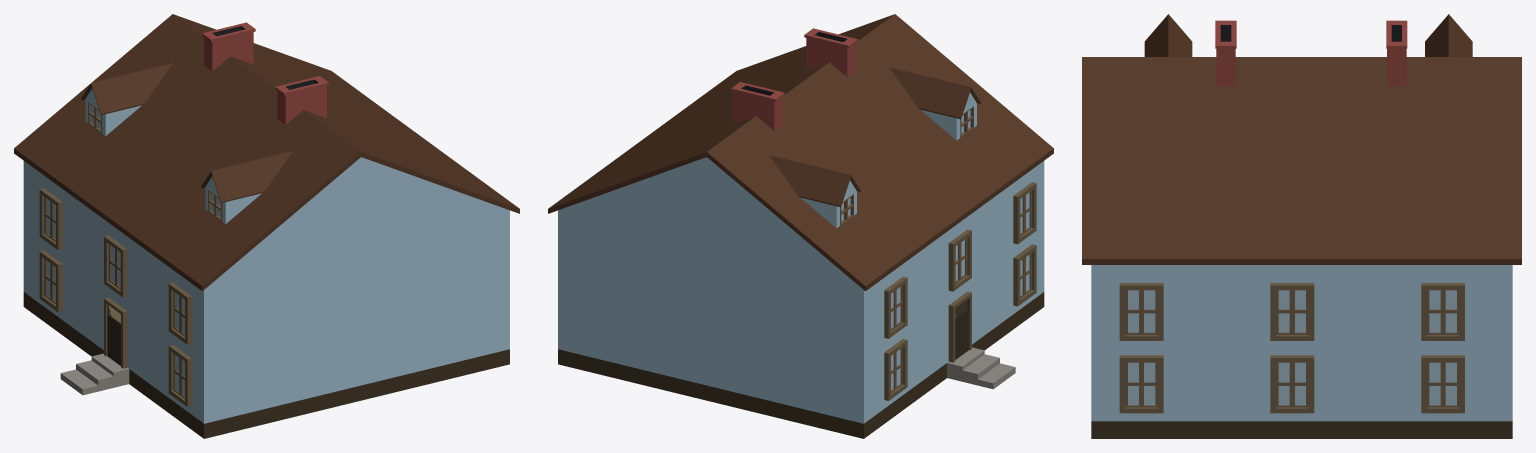
The model's file is Shion's House.fbx.
3 renders of one model, left to right at view 1: azimuth 30°, elevation 25°; view 2: azimuth 150°, elevation 25°; view 3: azimuth 270°, elevation 25°, orthographic. The views are drawn at different scales.
Visible parts, largest first — view 1: SM_Building_04_B, Window; view 2: SM_Building_04_B, Window; view 3: SM_Building_04_B.
Boxes of the visible parts, box(x1,y1,x2,y2) form: SM_Building_04_B: box(14, 14, 519, 438); Window: box(168, 283, 191, 344); SM_Building_04_B: box(548, 14, 1053, 438); Window: box(1013, 182, 1036, 244); SM_Building_04_B: box(1082, 14, 1521, 438).
Size of the model in its own units: 1187 by 868 by 1081.
